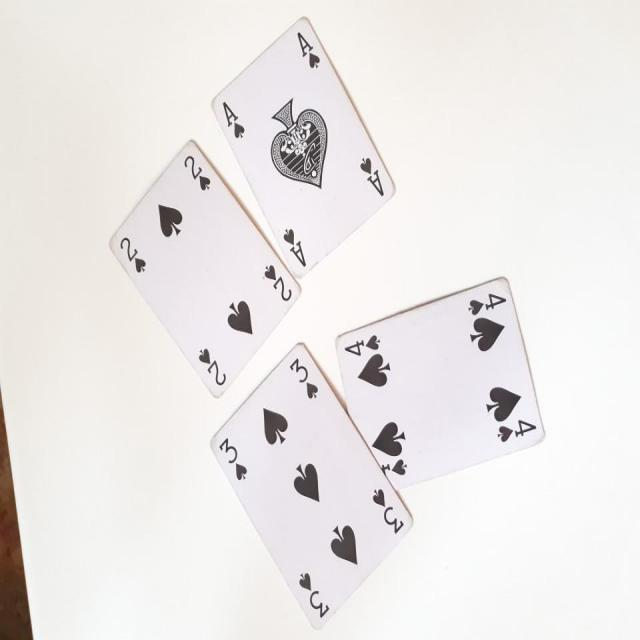2 Spades: (116, 152, 294, 394)
3 Spades: (211, 348, 403, 628)
4 Spades: (337, 280, 556, 476)
A Spades: (217, 29, 387, 274)
